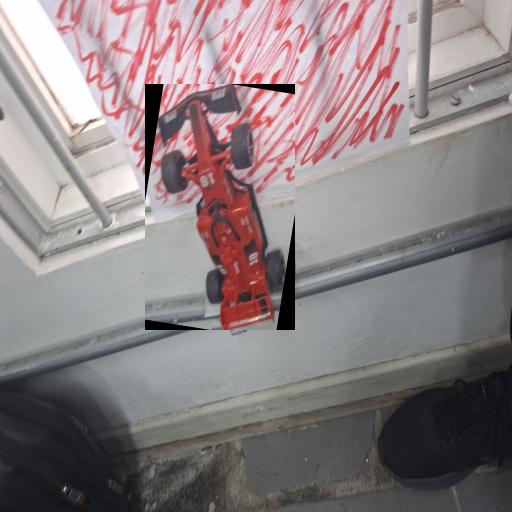carro: (146, 84, 294, 329)
